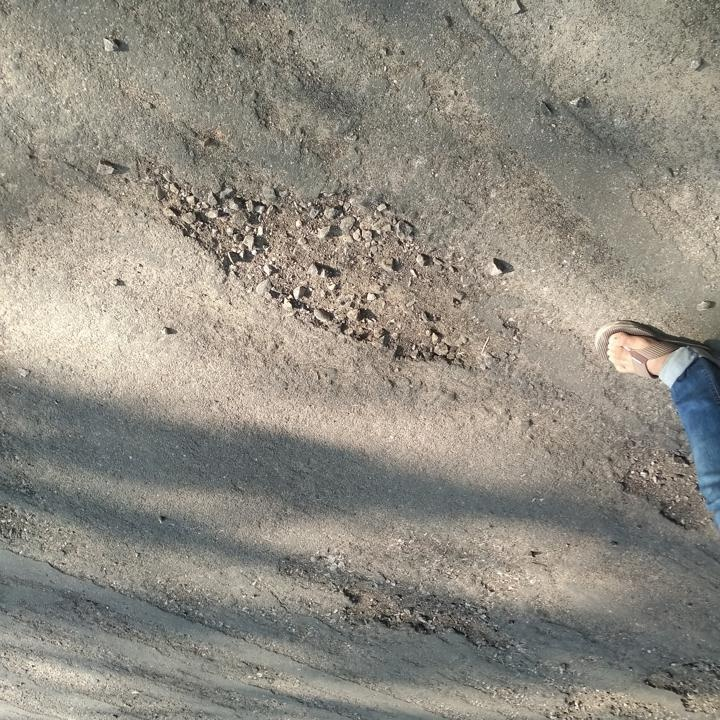pothole: (144, 161, 498, 378), (335, 576, 512, 651), (614, 447, 707, 537), (550, 680, 684, 719), (642, 658, 719, 719)
